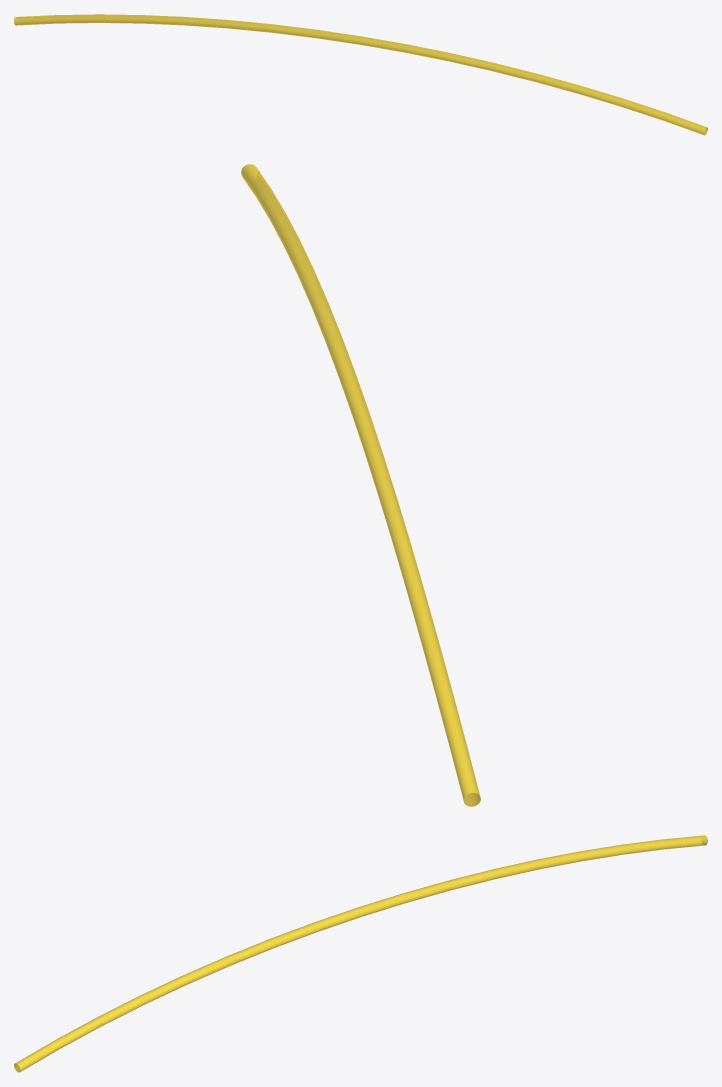
The model's file is Event_31209032_track_1.fbx.
3 renders of one model, top to bottom at view 1: azimuth 30°, elevation 25°; view 2: azimuth 150°, elevation 25°; view 3: azimuth 270°, elevation 25°, orthographic. The views are drawn at different scales.
Parts seen in each view (by area): view 1: Model; view 2: Model; view 3: Model.
Boxes of the visible parts, box(x1,y1,x2,y2) form: Model: box(14, 14, 707, 135); Model: box(241, 164, 480, 806); Model: box(14, 835, 707, 1072).
Bounding box in the file's own units: 2.18 × 0.2323 × 2.71.
